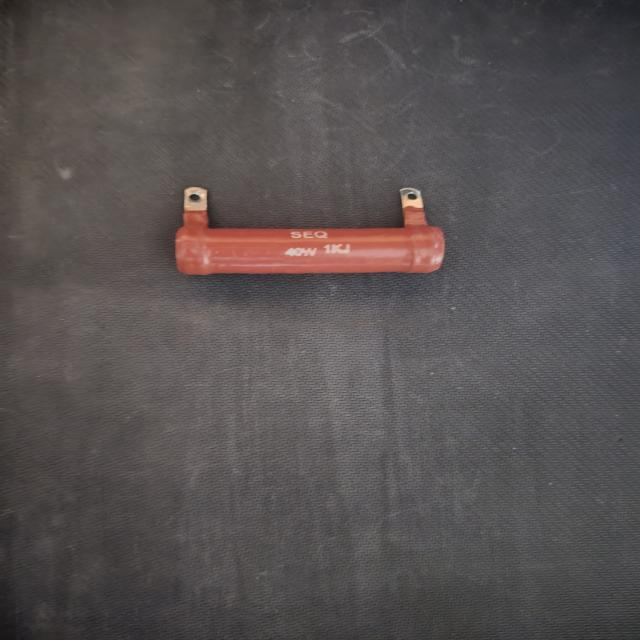resistor: (152, 182, 456, 284)
